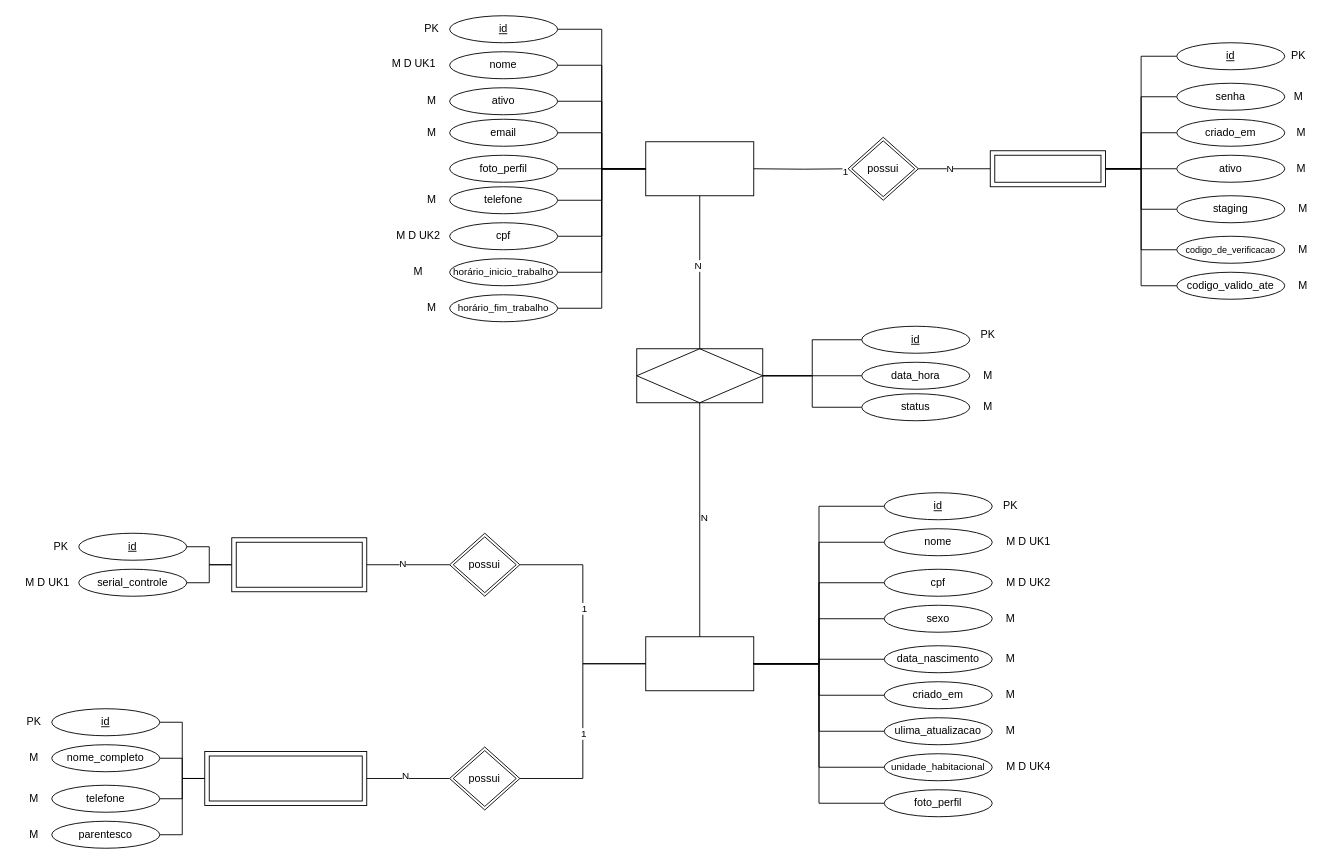
Image size: 1331x864. Some labels were removed from this diagram. Here are the shapes that lost their labels. From the top down, the centre of each, then its label:
At point 699,168: "conta".
At point 1047,168: "senha_conta".
At point 699,375: "atende".
At point 299,564: "controle_remoto_paciente".
At point 699,663: "paciente".
At point 285,778: "contato_emergencia_paciente".
